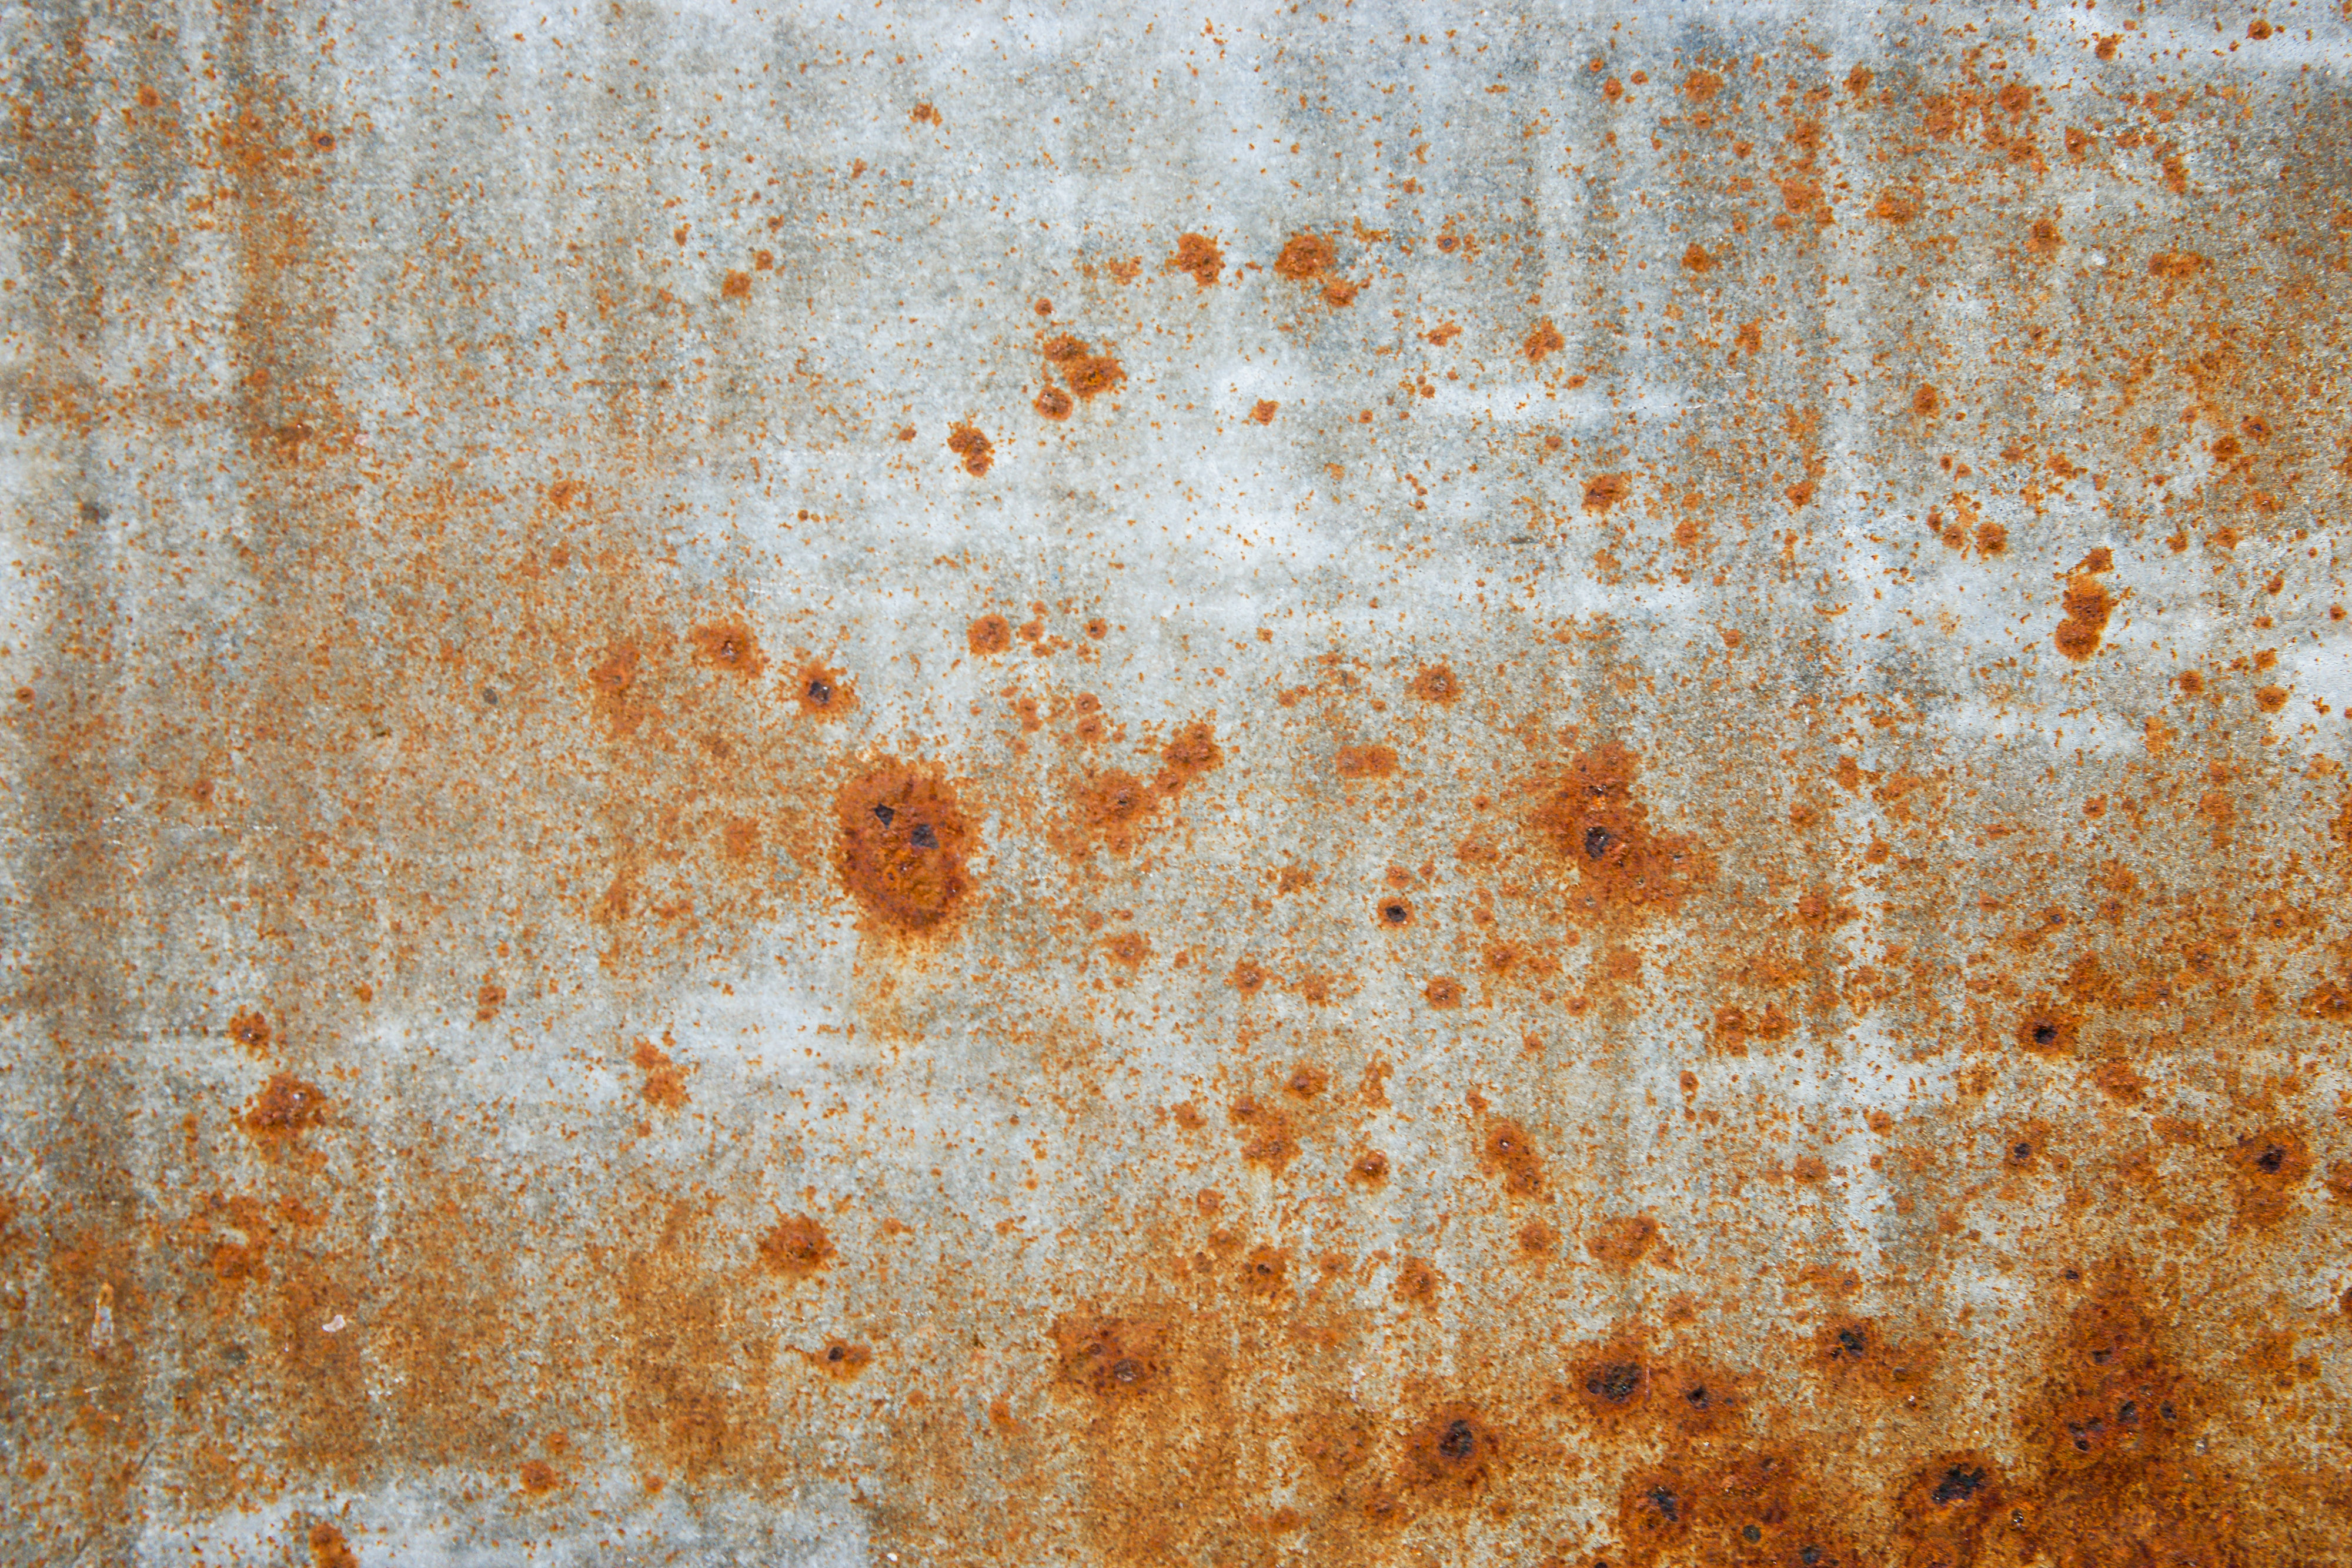rust: (1547, 1325, 2289, 1568), (1510, 756, 1729, 954), (815, 738, 989, 934), (1048, 1291, 1232, 1421)
